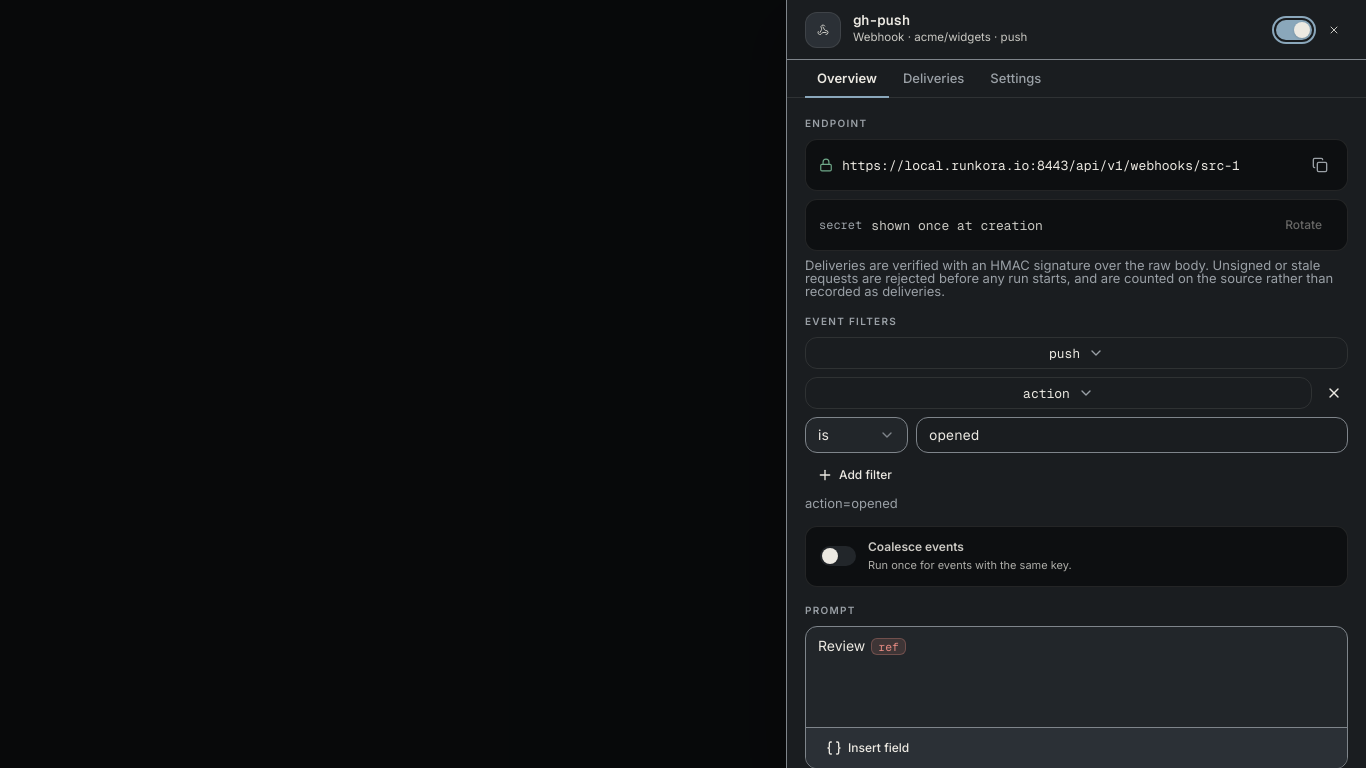
Scenario: schema catalogue › offers the source's schema and received event types, and the edited event's fields
Step 1. Click the button with aria-label "Event type" → coordinates (1076, 353), box [805,337,1348,369]
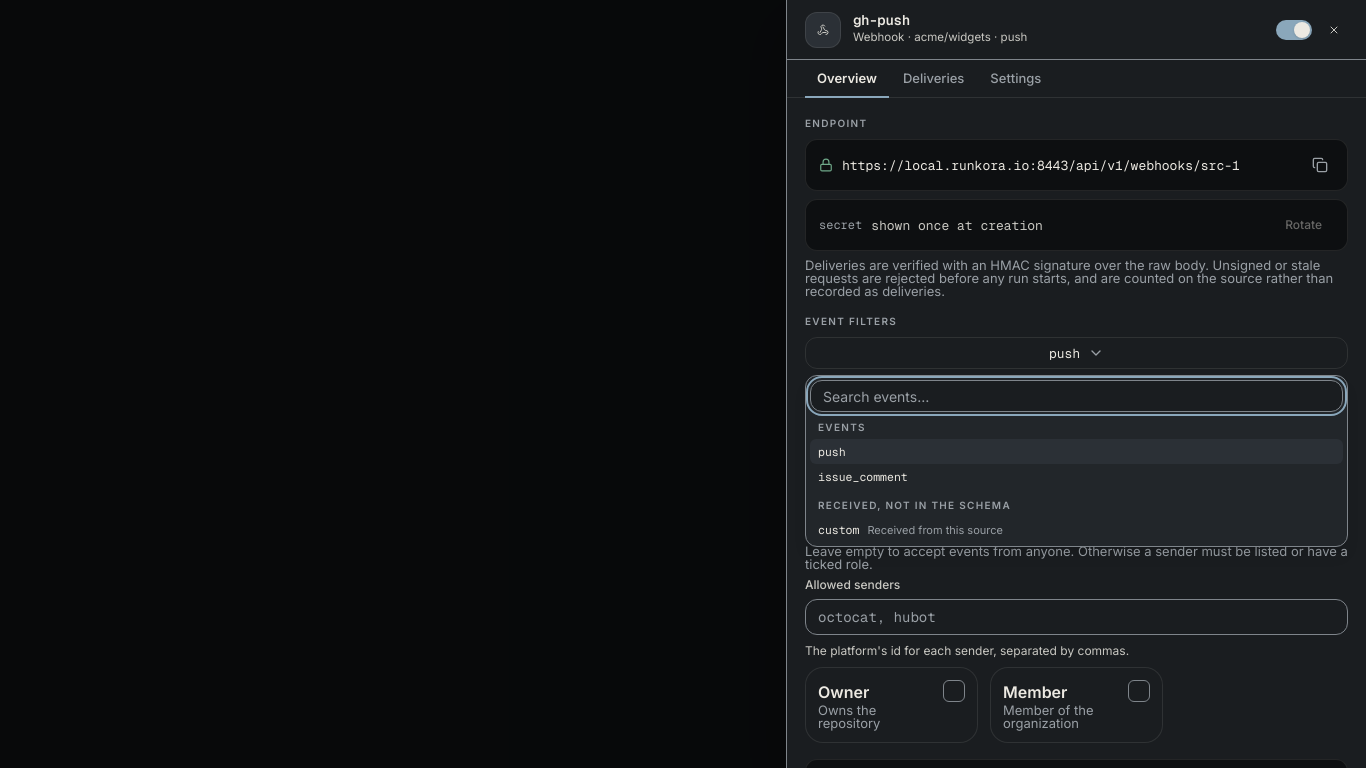
Check: the text "issue_comment" is shown, box [818,468,908,486]
Check: the text "custom" is shown, box [818,520,859,538]
Step 2. Click the button "issue_comment" → coordinates (863, 477), box [810,464,1343,490]
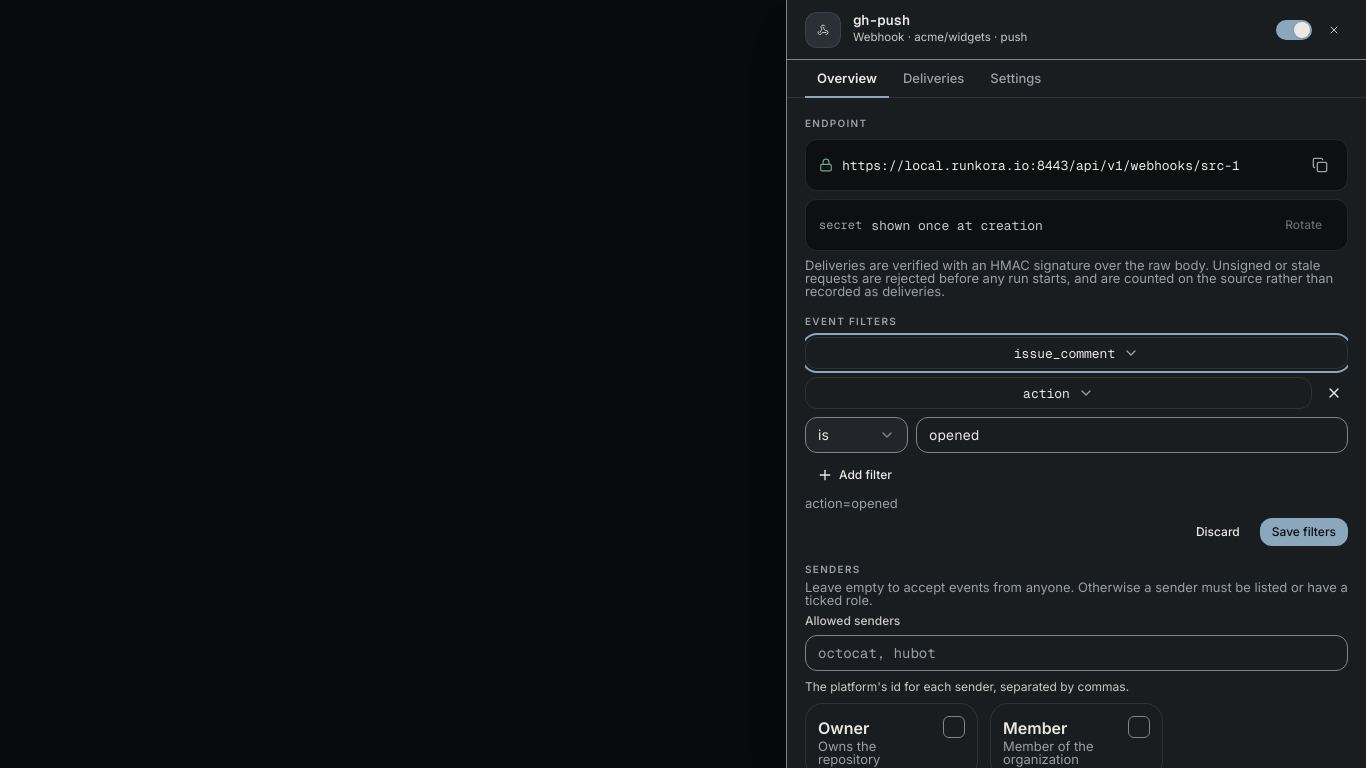
Check: the button "Save filters" is shown, box [1260,518,1348,546]
